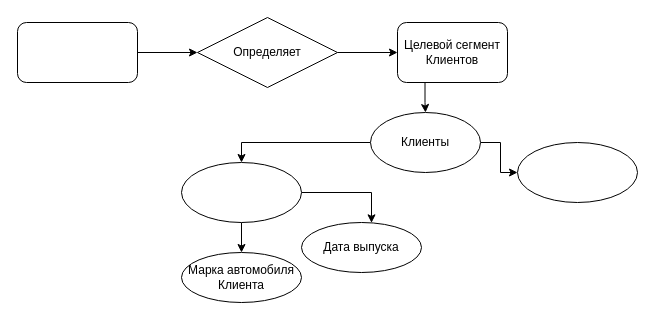
The diagram is 655 pixels wide and 320 high, and some of its shapes have lost their labels. The centre of each missing label's shape, as x and y in pixels:
"Атомобиль" belongs at (241,192).
"Заказчик" belongs at (77,52).
"Контактные данные Клиентов" belongs at (577,172).
